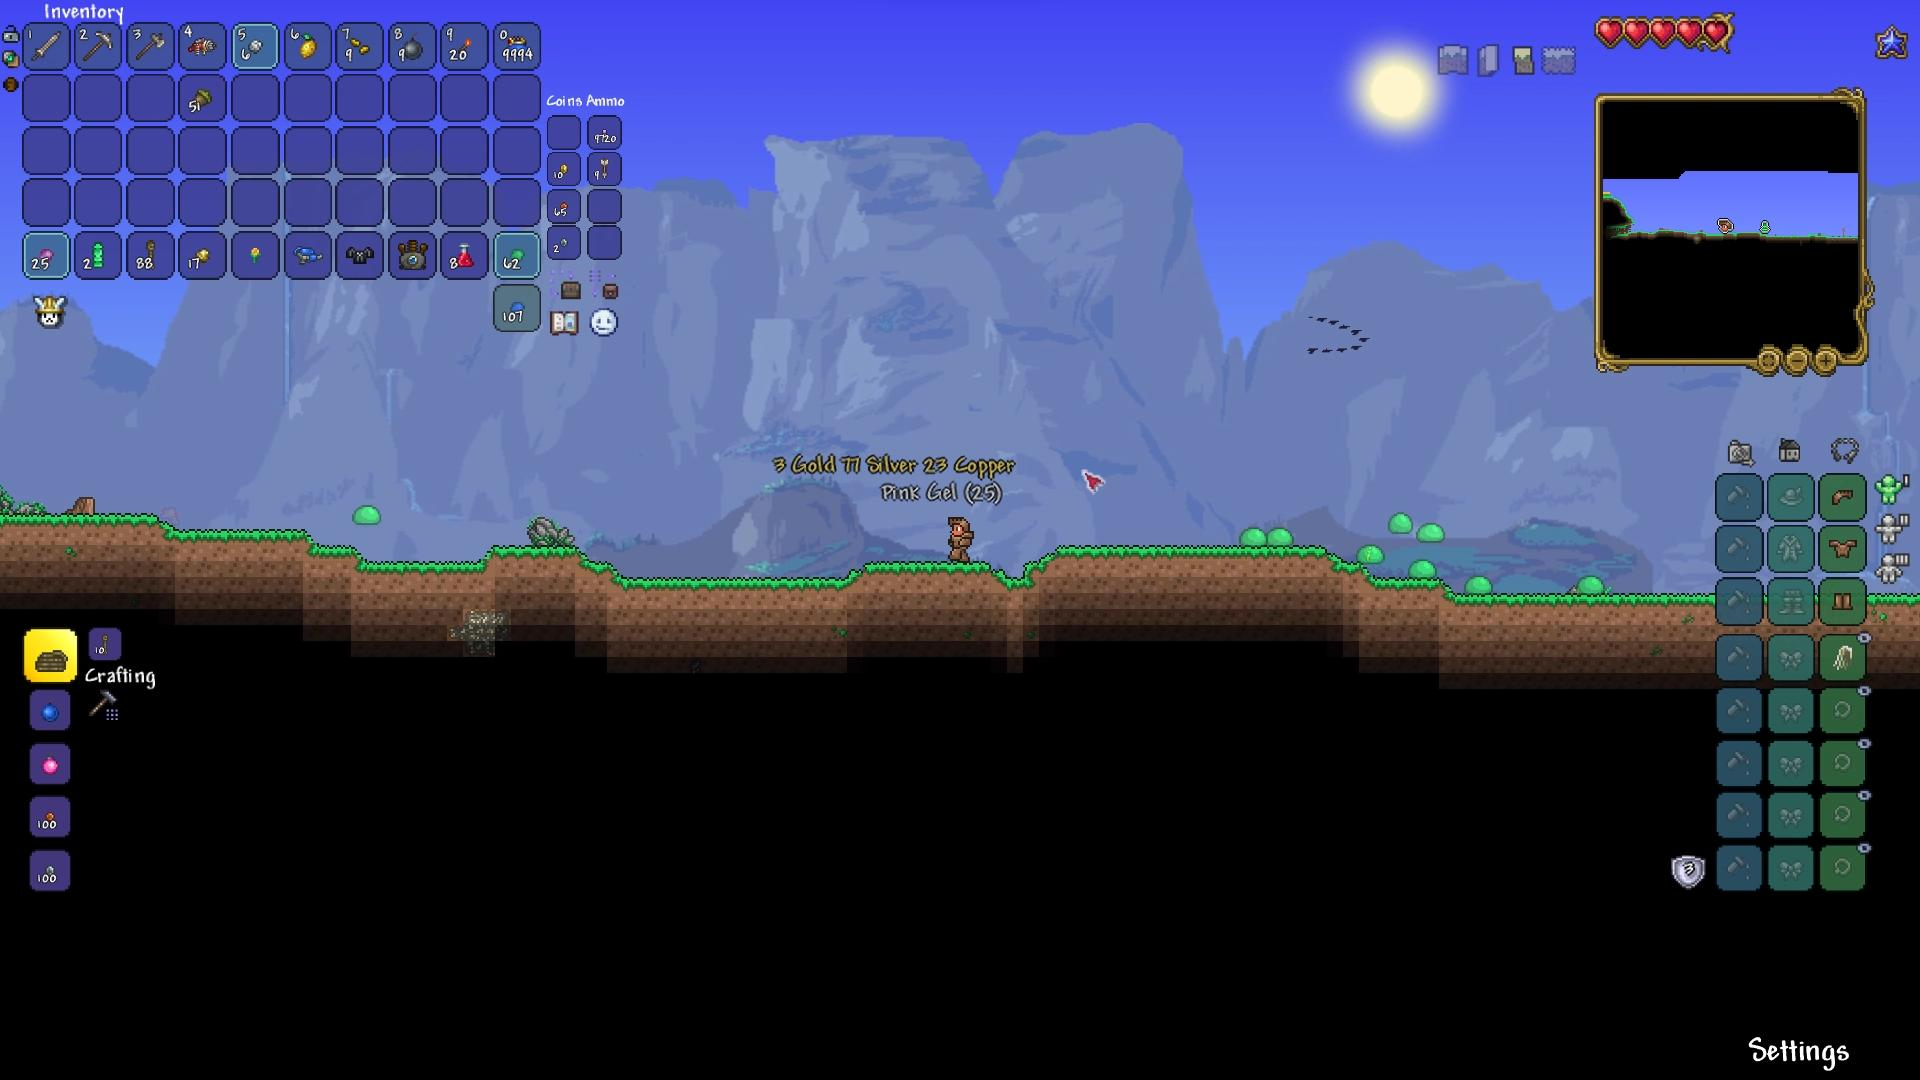breastplate: (1830, 537, 1859, 558)
helmet: (1828, 483, 1858, 510)
legs: (1832, 587, 1857, 616)
slime: (1233, 522, 1270, 550), (1404, 560, 1441, 585), (1265, 524, 1298, 551), (1462, 572, 1495, 597), (352, 502, 382, 527), (1356, 545, 1389, 567), (1576, 574, 1606, 597), (1387, 513, 1420, 534), (1418, 520, 1448, 541)
